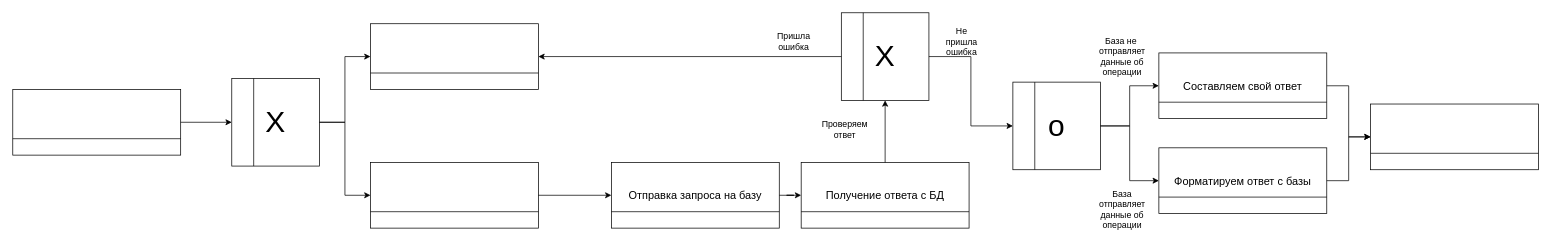
This 1552x244 diagram has some shape labels left out. The box of each missing label's shape, as (x1, y1, x2, y2) in pixels:
Возвращаем ошибку: (370, 23, 538, 89)
Отправляем ответ клиенту: (1370, 103, 1538, 170)
Перевод массива данных в запрос: (370, 162, 538, 228)
Получение массива данных: (12, 89, 181, 155)
